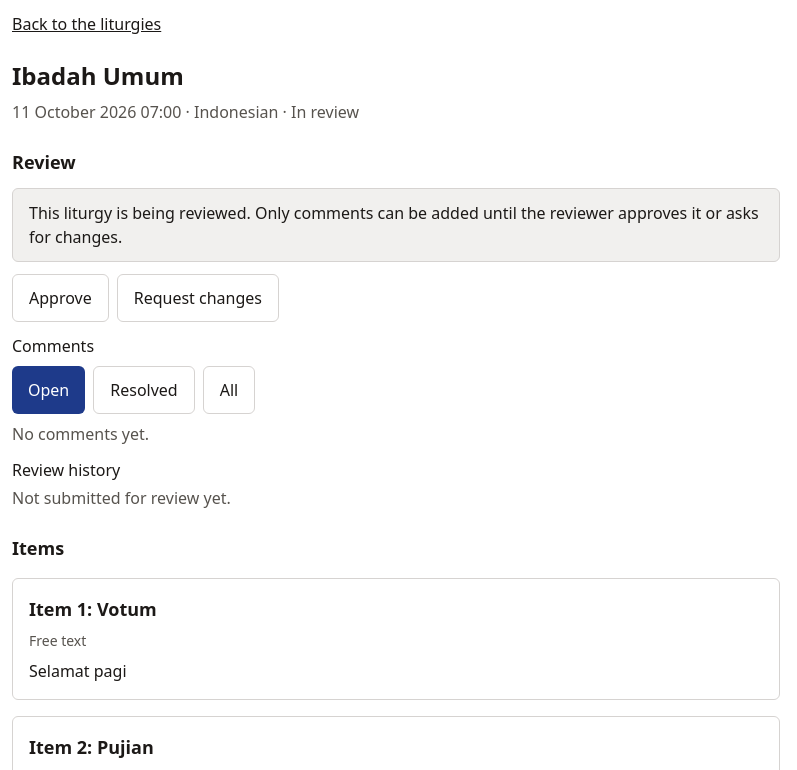
Scenario: WT-R-002 approve › reloads the liturgy on review_stale
The width and height of the screenshot is (797, 770).
Click the button "Approve": (60,298) [12,274,109,322]
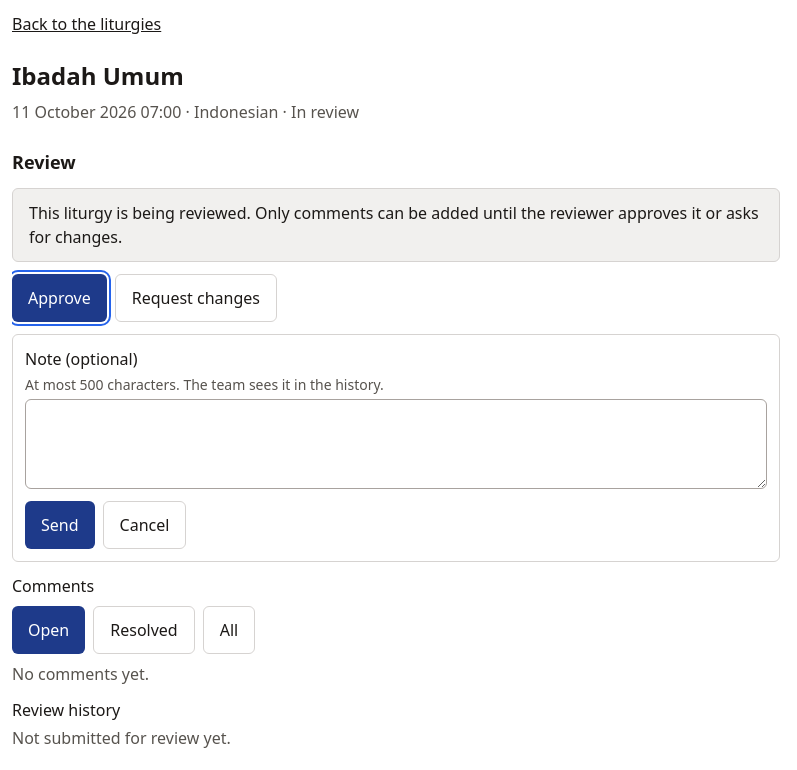
Click the button "Send": (60,525) [25,501,94,549]
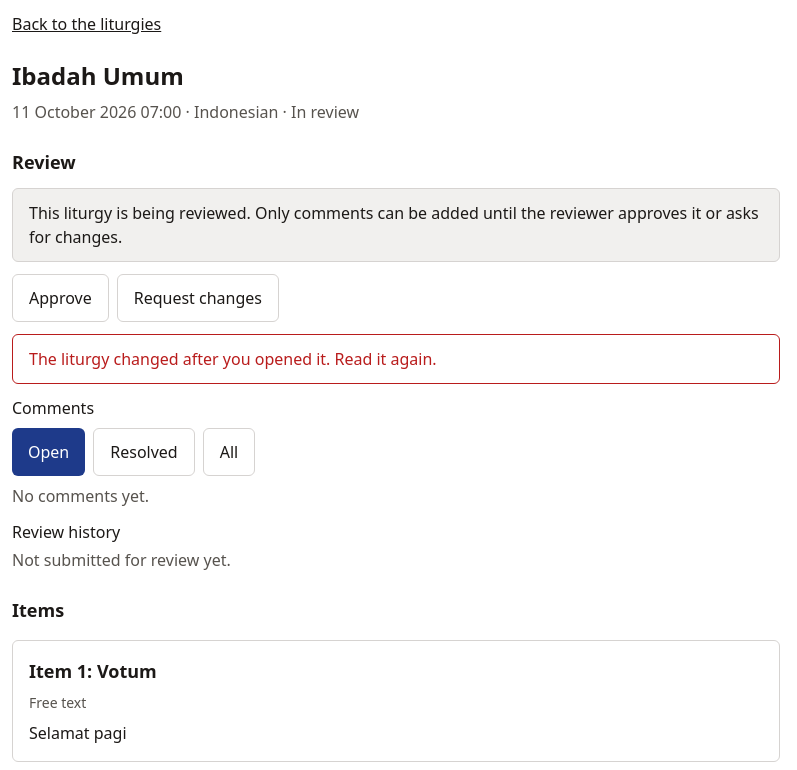
Expected: the text "The liturgy changed after you opened it. Read it again." is shown, [29,348,437,370]
